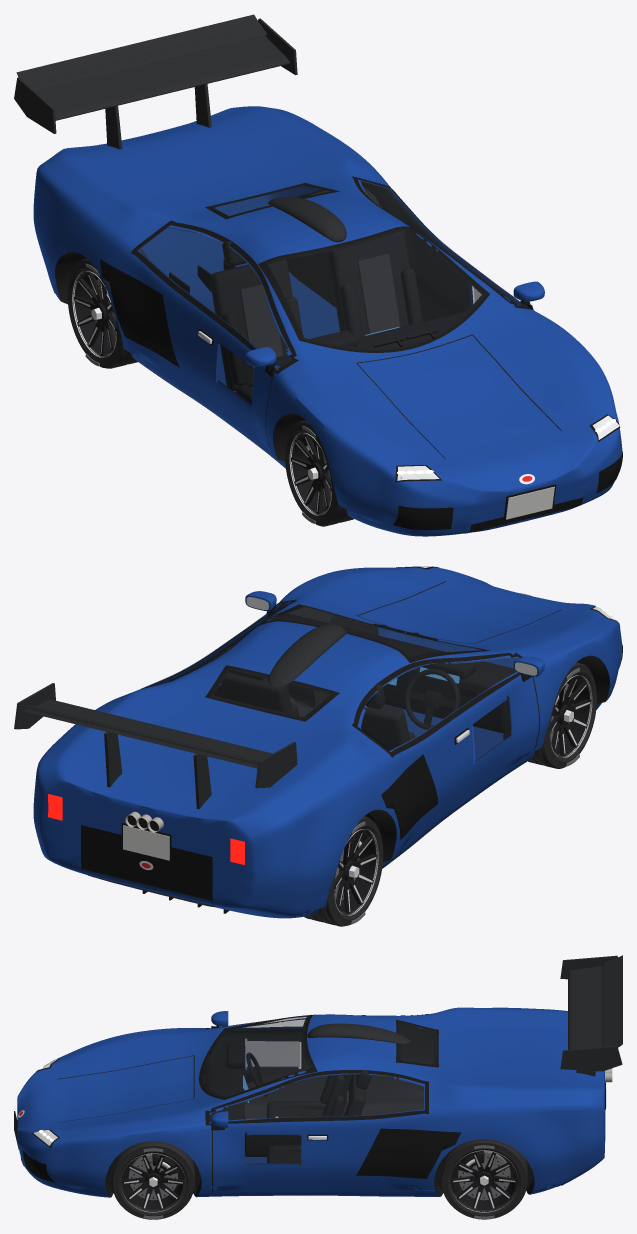
Rendered from senna.glb.
3 renders of one model, top to bottom at view 1: azimuth 30°, elevation 25°; view 2: azimuth 150°, elevation 25°; view 3: azimuth 270°, elevation 25°, orthographic. The views are drawn at different scales.
Visible parts, largest first — view 1: Body, Wheel_RR, Wheel_FR; view 2: Body, Wheel_RR, Wheel_FR; view 3: Body, Wheel_RL, Wheel_FL.
Part boxes in pixels (left/top/right/bottom): Body: left=14, top=14, right=622, bottom=536; Wheel_RR: left=67, top=258, right=137, bottom=368; Wheel_FR: left=285, top=420, right=353, bottom=526; Body: left=14, top=565, right=622, bottom=918; Wheel_RR: left=304, top=816, right=383, bottom=926; Wheel_FR: left=528, top=662, right=596, bottom=768; Body: left=14, top=955, right=622, bottom=1197; Wheel_RL: left=441, top=1139, right=527, bottom=1219; Wheel_FL: left=112, top=1141, right=194, bottom=1219.
Size of the model in its own units: 2.11 by 1.53 by 4.91.
